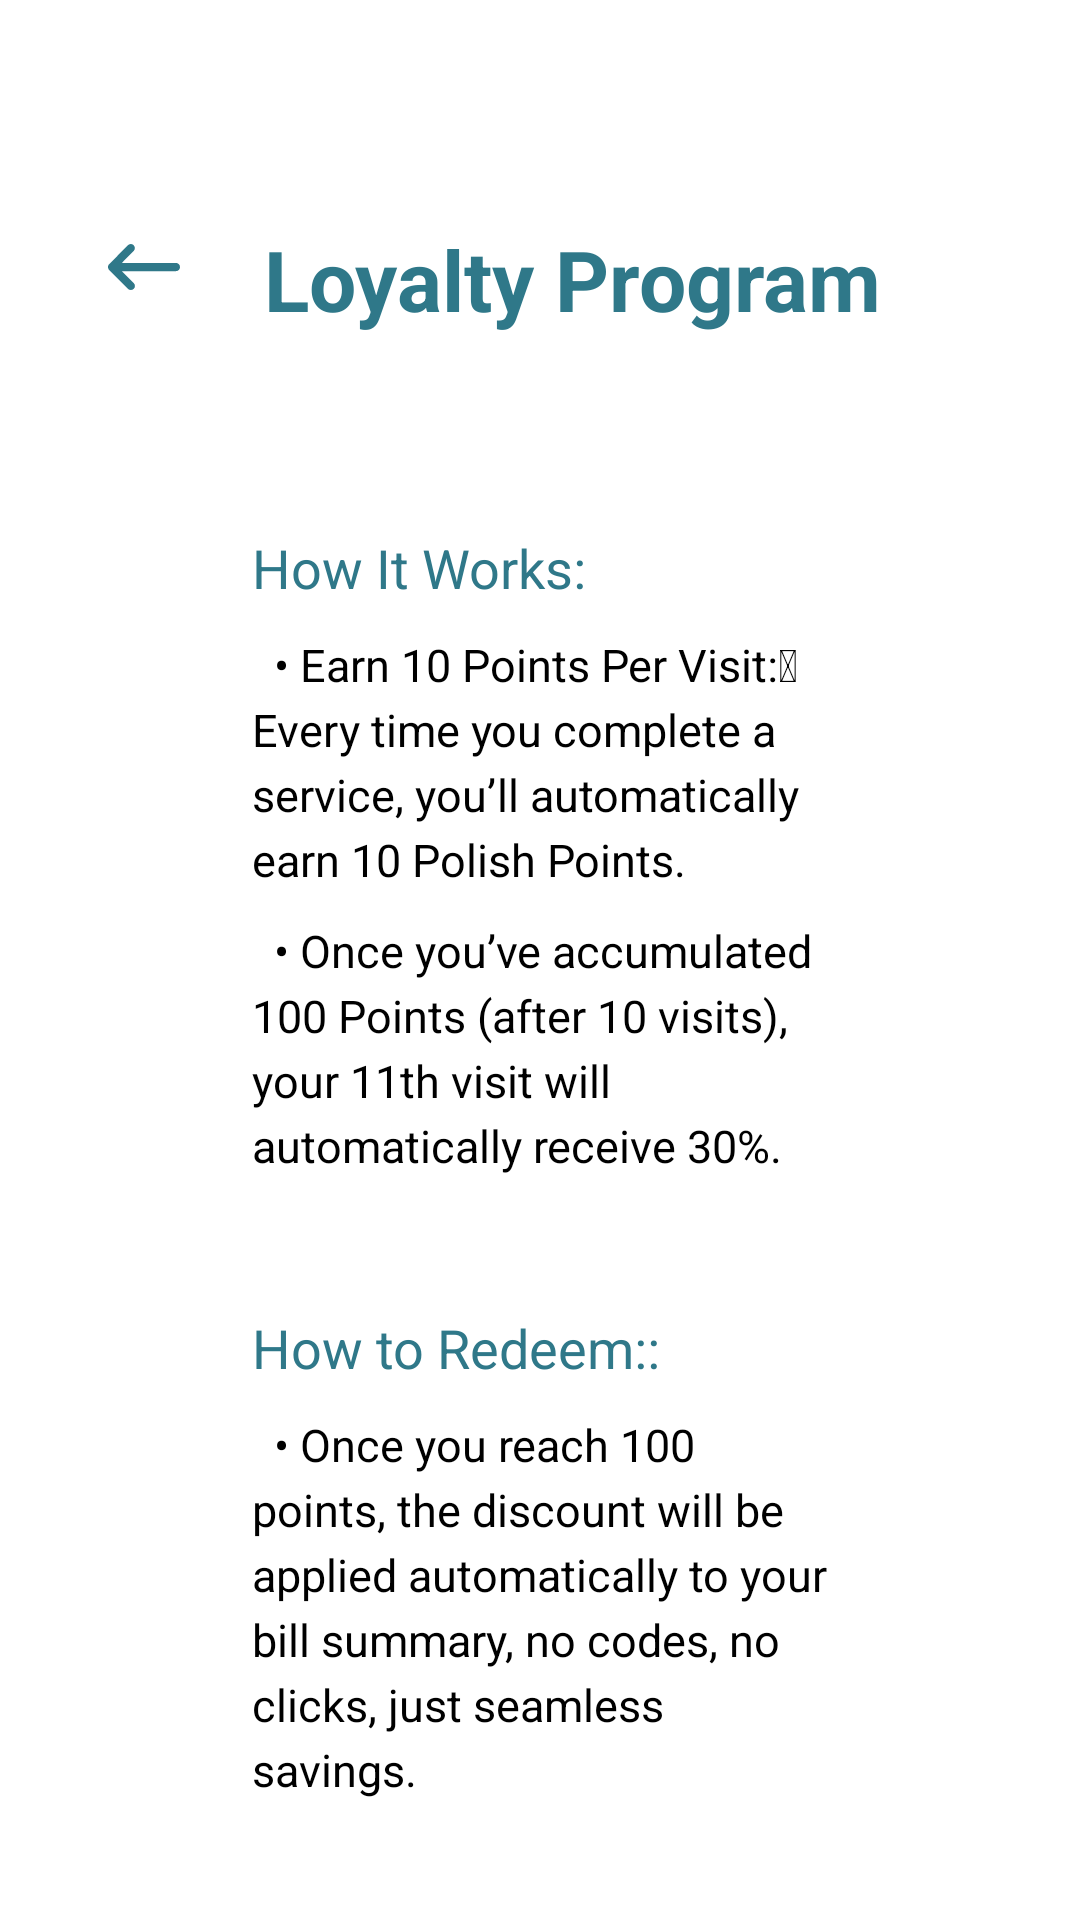

Screen size 1080×1920. Icon name, then its box in pixels as (x1, y1, x2, y2):
back arrorw: (108, 244, 180, 290)
